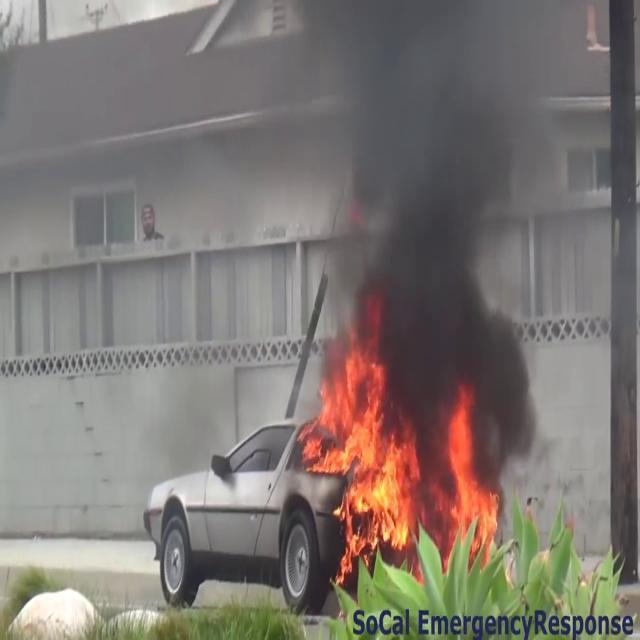Fire: (302, 332, 418, 572), (444, 394, 501, 556)
Smoke: (312, 1, 566, 427)
